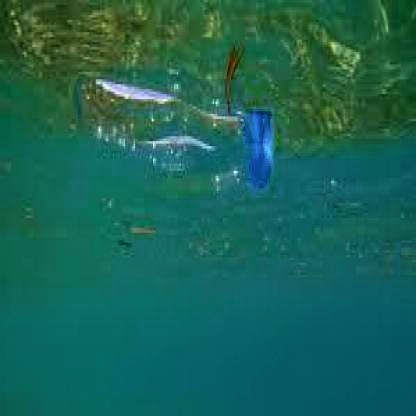pbottle: (71, 70, 284, 206)
